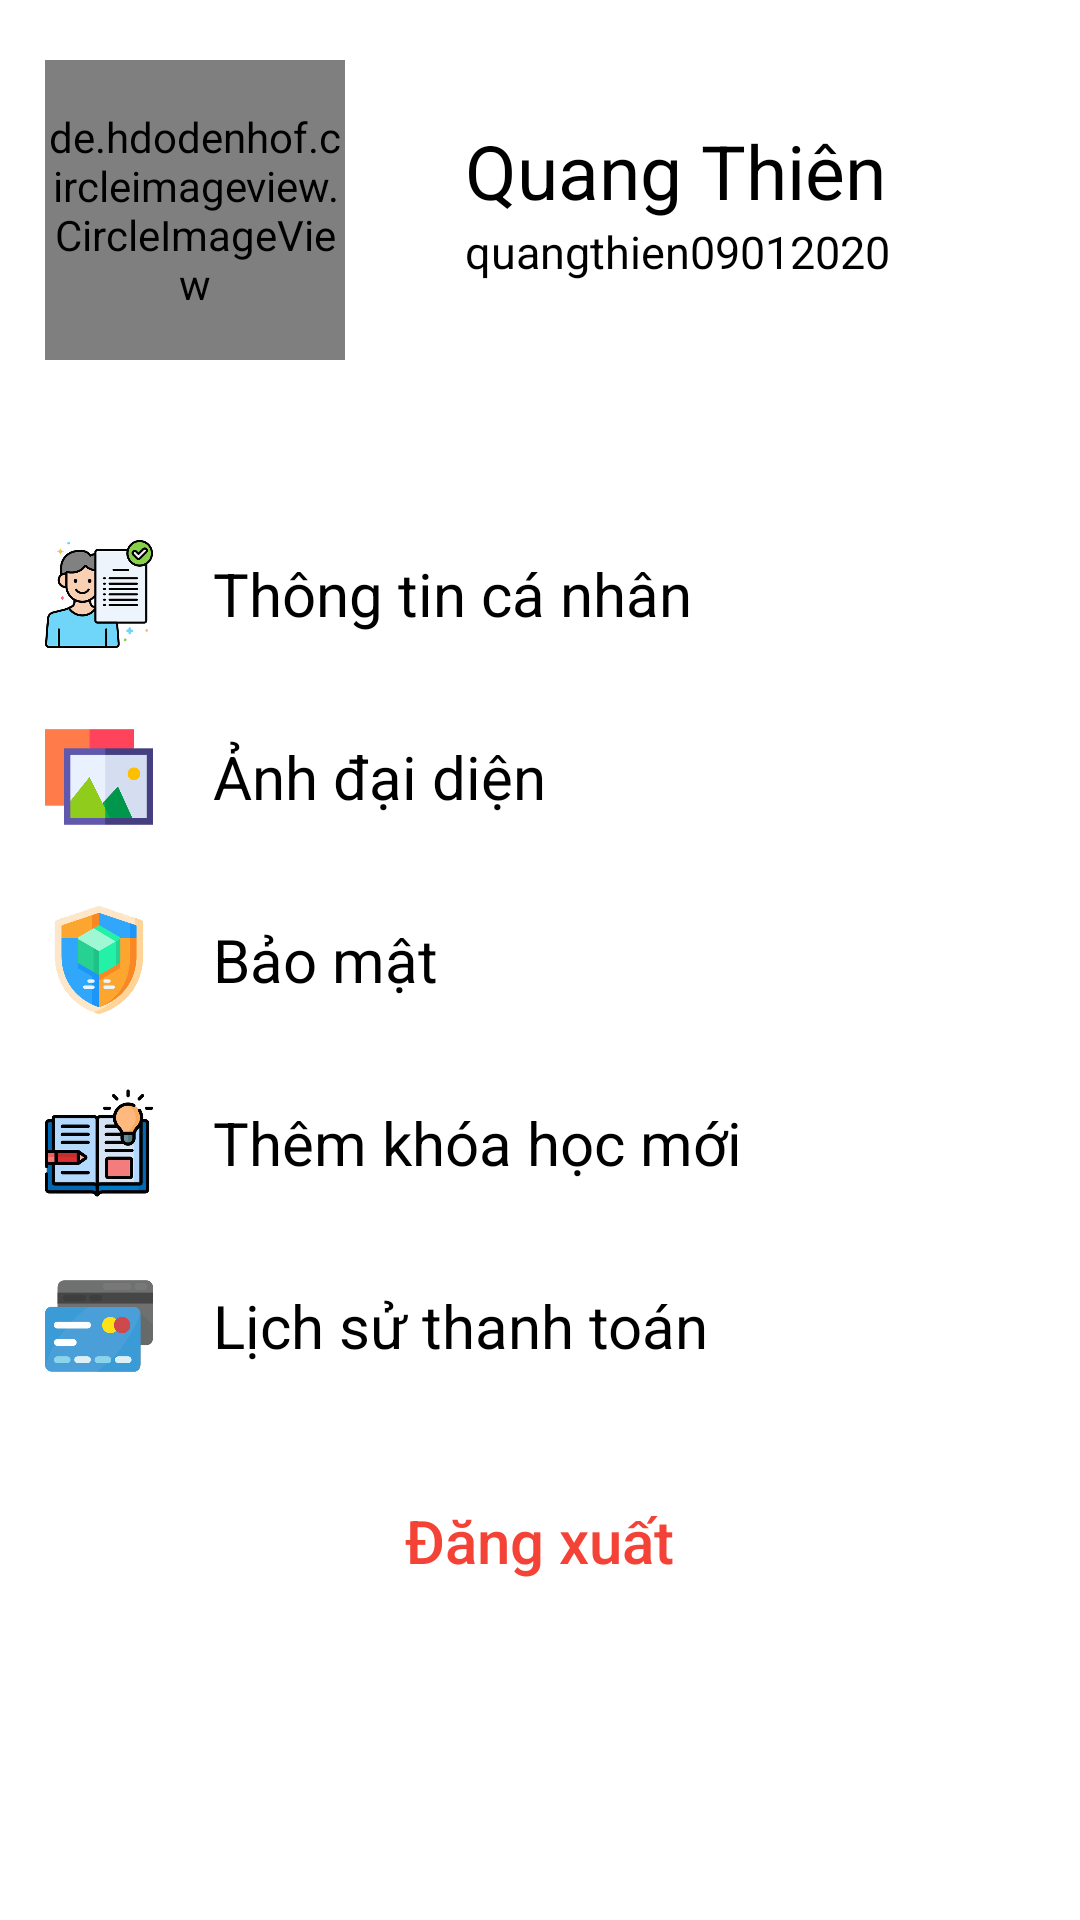

Icons on this 1080px x 1920px Android screen, each with the point to tap as point (x, y):
addcourse: point (99, 1143)
infor: point (99, 594)
payment: point (99, 1326)
secure: point (99, 960)
